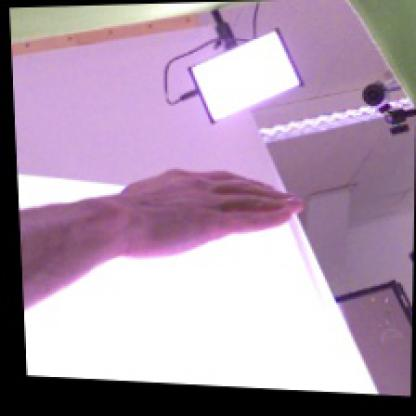Hand: (119, 168, 305, 259)
